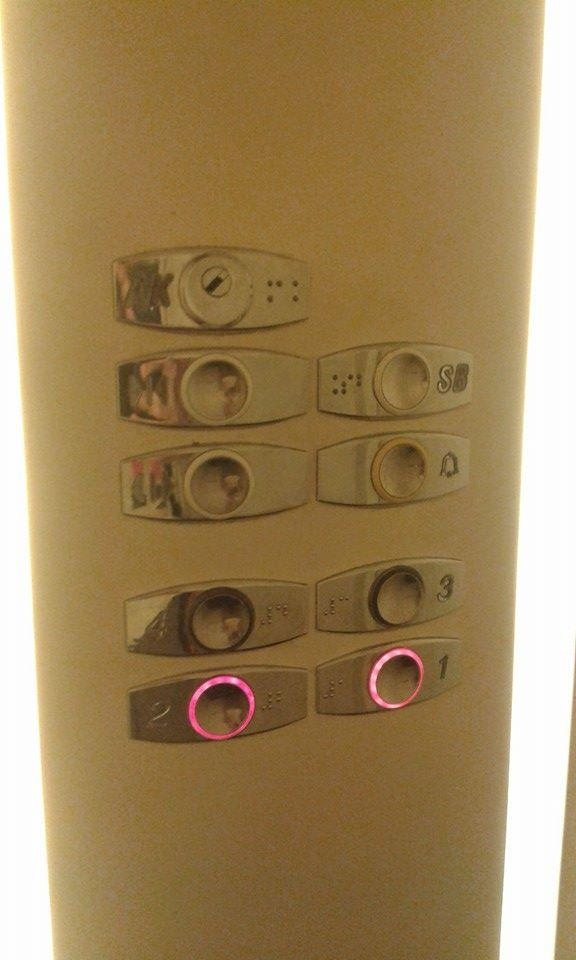1: (313, 635, 466, 716)
2: (127, 664, 312, 745)
3: (315, 557, 469, 635)
4: (122, 577, 313, 658)
SB: (315, 340, 475, 418)
alarm: (315, 432, 472, 511)
bt_keyhole: (106, 243, 313, 329)
close: (118, 349, 312, 429)
open: (116, 440, 312, 524)
